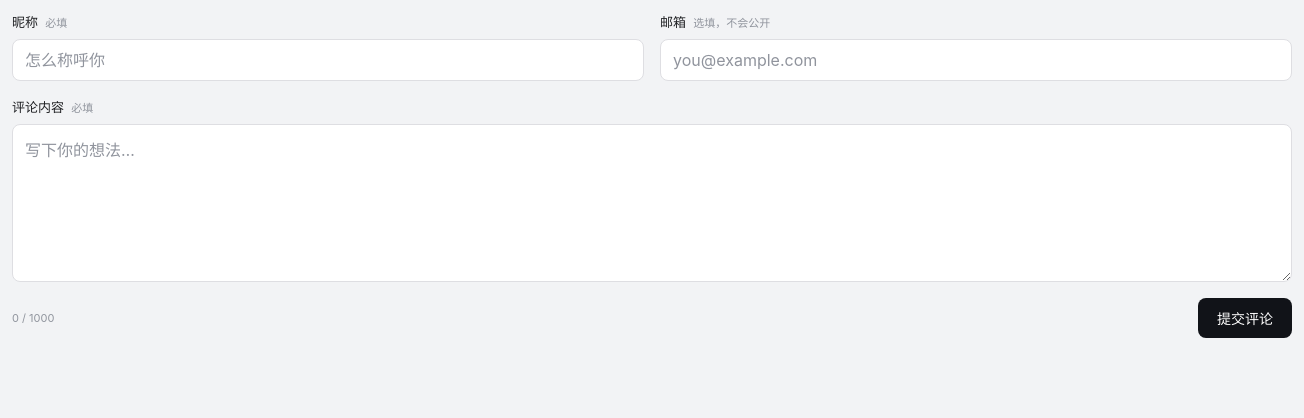
Test: CommentForm › validates minimum lengths before making a request
The image size is (1304, 418).
Type "a" into the field named "nickname" at {"x": 328, "y": 60}, box [12, 39, 644, 81]
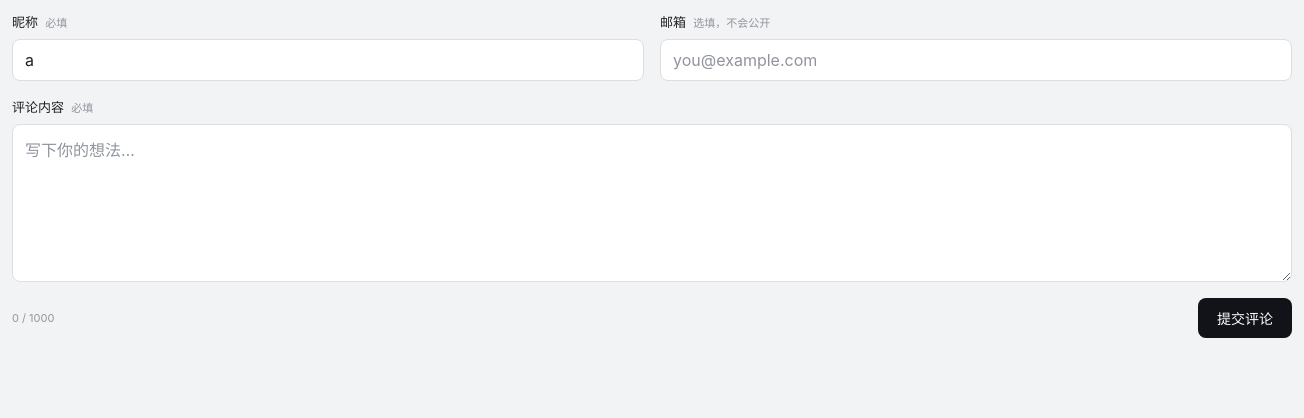
Type "b" into the text box named "content" at {"x": 652, "y": 203}, box [12, 124, 1292, 282]
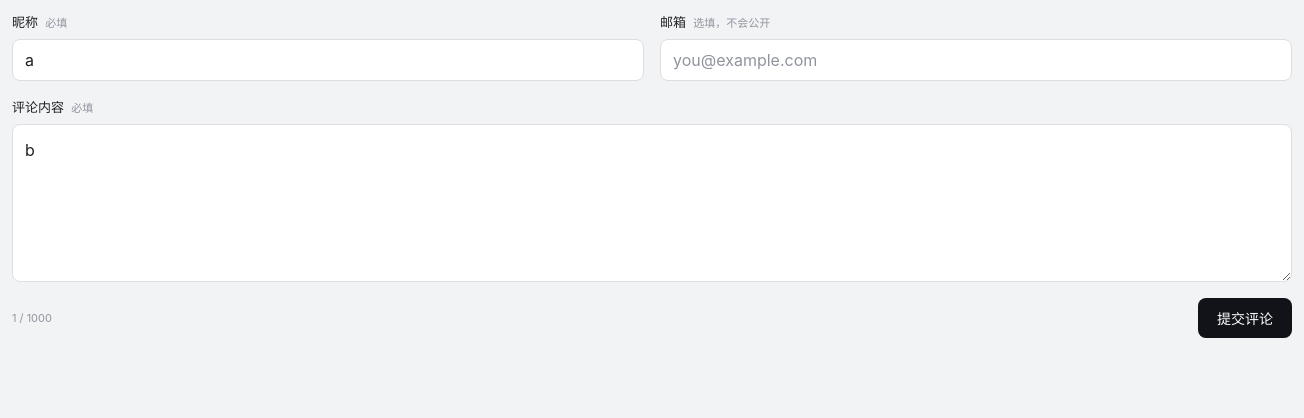
Submit the form
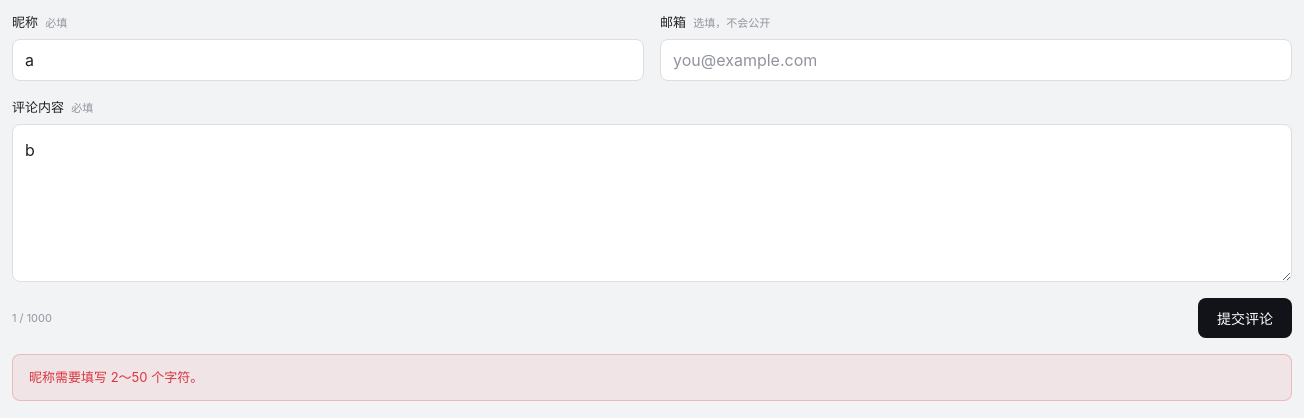
Expected: the form shows "昵称需要填写 2～50 个字符。", [29, 369, 203, 385]
